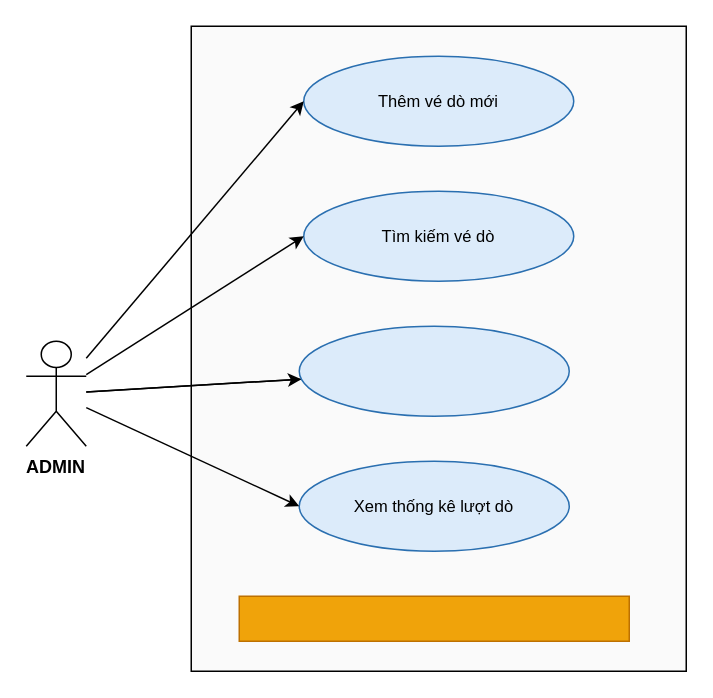
Some shapes in this 713 by 698 pixel diagram are drawn without their labels. Each missing label, with the centre of its shape:
CN2 - Quản lý vé số: (x=433, y=618)
Publish vé dò: (x=433, y=370)
